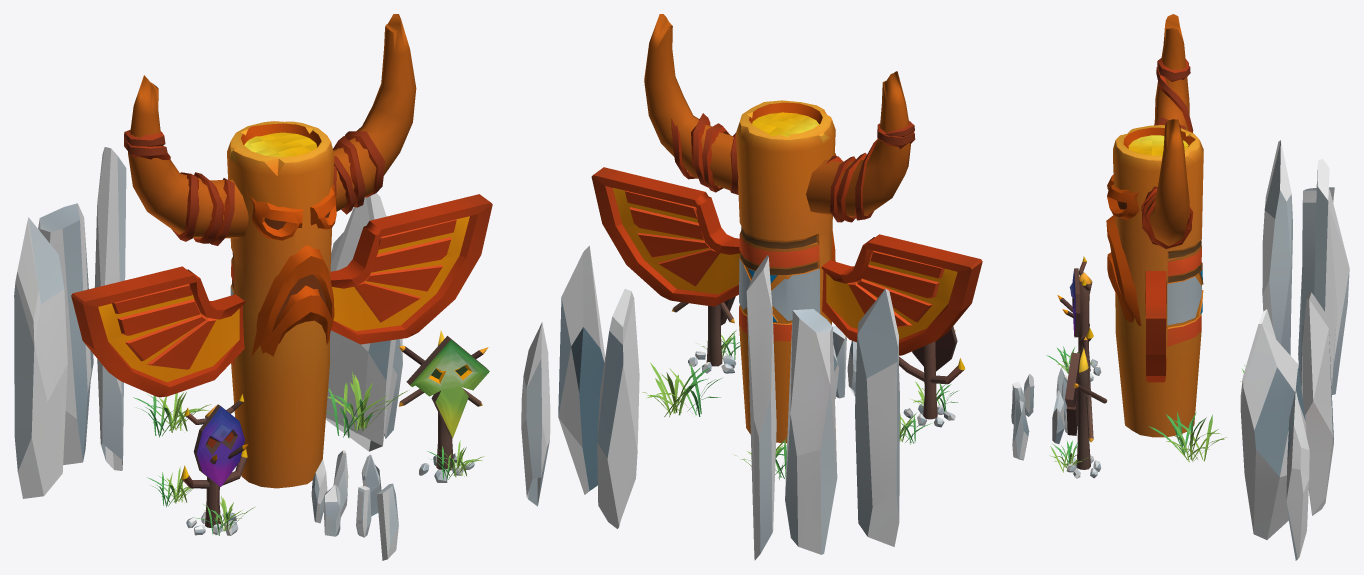
The model's file is Template.FBX.
3 views of the same model, side by side, from view 1: azimuth 30°, elevation 25°; view 2: azimuth 150°, elevation 25°; view 3: azimuth 270°, elevation 25° (orthographic). The views are drawn at different scales.
Parts seen in each view (by area): view 1: pCube1; view 2: pCube1; view 3: pCube1.
Part boxes in pixels (x1=…): pCube1: x1=14, y1=14, x2=492, y2=560; pCube1: x1=521, y1=14, x2=982, y2=560; pCube1: x1=1011, y1=14, x2=1349, y2=560.
Size of the model in its own units: 4.46 by 5.12 by 3.76.
